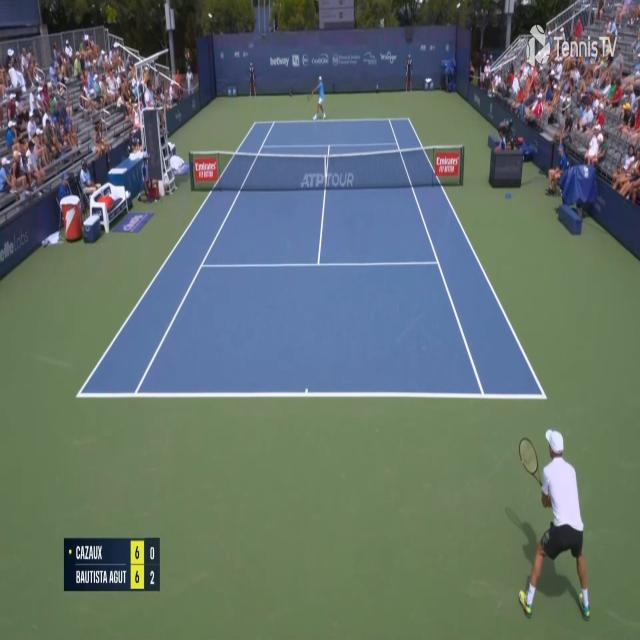tennis-player: (504, 423, 596, 621), (311, 74, 327, 123)
